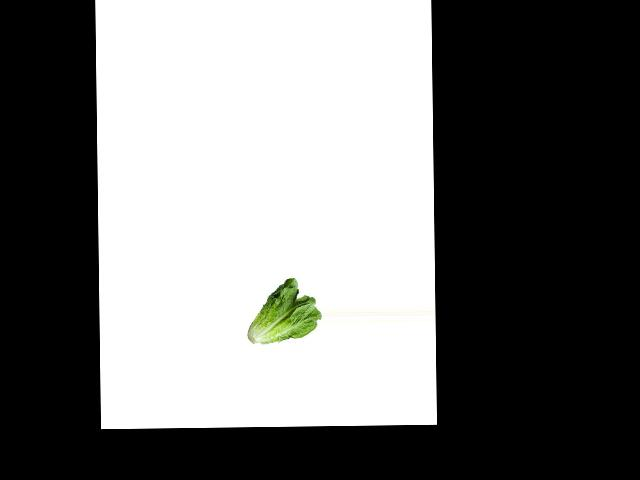lettuce: (247, 275, 323, 346)
